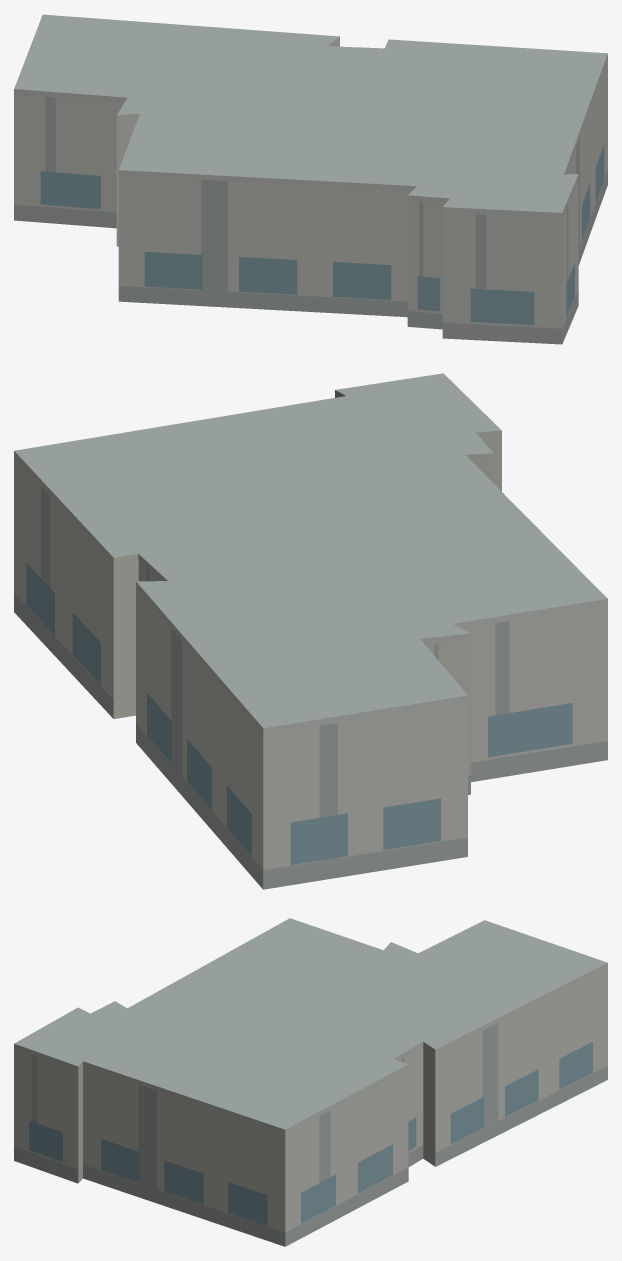
Rendered from survey-upis-32805739.glb.
3 renders of one model, top to bottom at view 1: azimuth 30°, elevation 25°; view 2: azimuth 150°, elevation 25°; view 3: azimuth 270°, elevation 25°, orthographic. The views are drawn at different scales.
Visible parts, largest first — view 1: survey-upis-32805739.tmp; view 2: survey-upis-32805739.tmp; view 3: survey-upis-32805739.tmp.
Boxes of the visible parts, bbox=[...] form: survey-upis-32805739.tmp: bbox=[14, 14, 607, 344]; survey-upis-32805739.tmp: bbox=[14, 373, 607, 889]; survey-upis-32805739.tmp: bbox=[14, 918, 607, 1246].
Size of the model in its own units: 23.63 by 6.1 by 28.03.
